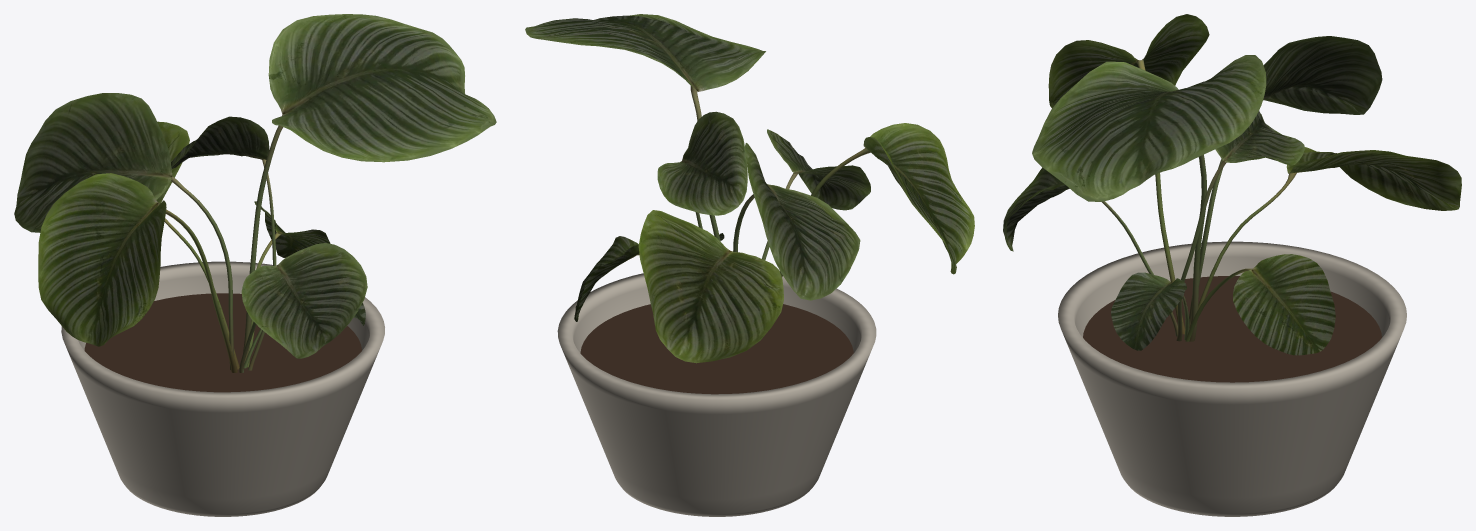
Rendered from plant-calathea.glb.
3 renders of one model, left to right at view 1: azimuth 30°, elevation 25°; view 2: azimuth 150°, elevation 25°; view 3: azimuth 270°, elevation 25°, orthographic. The views are drawn at different scales.
Parts seen in each view (by area): view 1: calathea_orbifolia_01_a, pot, soil; view 2: calathea_orbifolia_01_a, pot, soil; view 3: calathea_orbifolia_01_a, pot, soil.
Boxes of the visible parts, <box> form: calathea_orbifolia_01_a: <box>14,14,496,372</box>; pot: <box>61,261,384,516</box>; soil: <box>84,293,361,392</box>; calathea_orbifolia_01_a: <box>525,14,974,363</box>; pot: <box>557,271,876,516</box>; soil: <box>580,304,853,394</box>; calathea_orbifolia_01_a: <box>1003,14,1461,355</box>; pot: <box>1058,241,1406,516</box>; soil: <box>1083,276,1381,382</box>.
Bounding box in the file's own units: 0.6006 × 0.5793 × 0.5256.
Materials: 3 (1 with a texture image).
